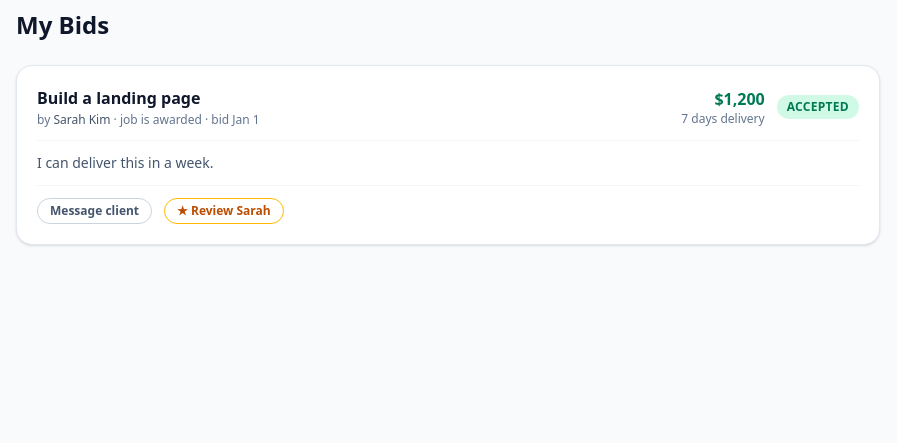
it: MyBids › updates the card after a review is saved, without refetching
The image size is (897, 443).
Click the button "★ Review Sarah".
click(224, 211)  # box [164,198,284,224]
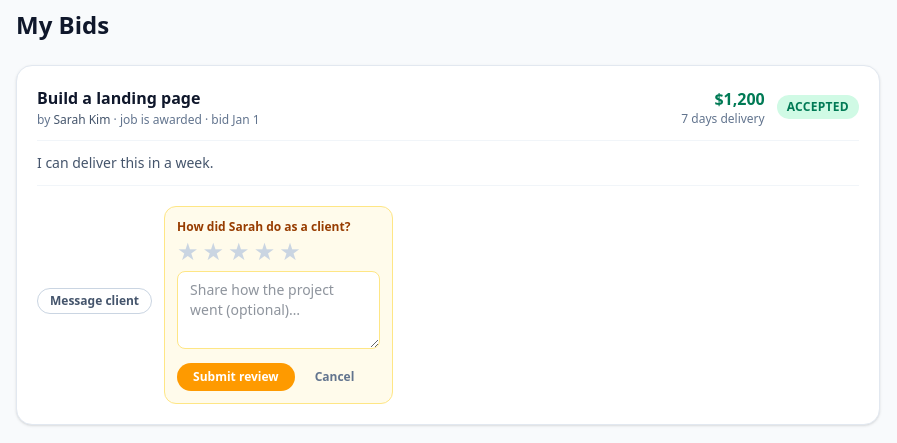
Click the radio button named "5 stars".
click(290, 251)  # box [279,239,301,263]
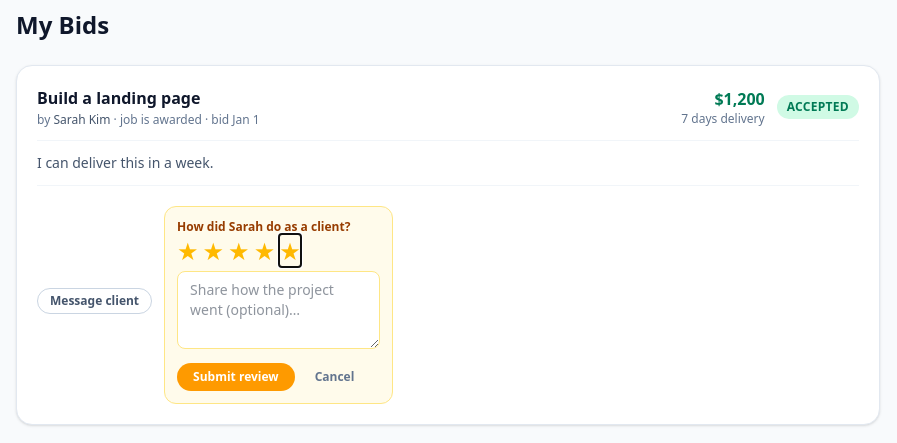
Click the button "Submit review".
click(236, 377)  # box [177,363,295,391]
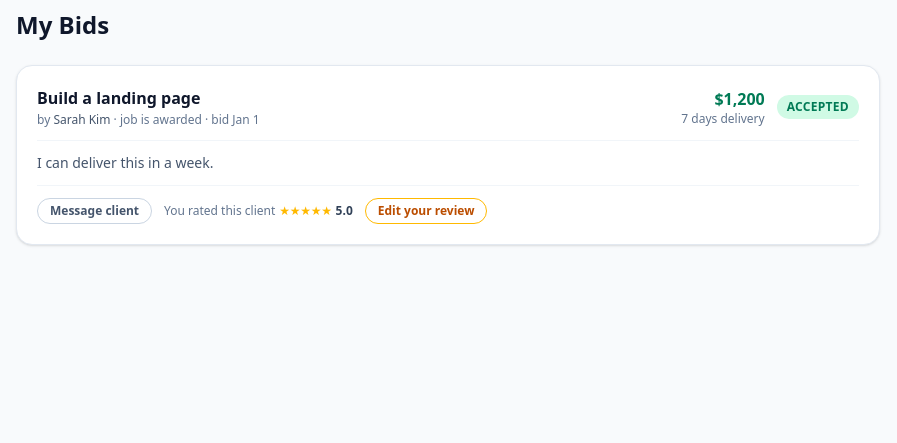
Expected: the text "You rated this client ★★★★★ 5.0" is shown, [164,203,353,219]
Expected: the button "Edit your review" is shown, [365,198,488,224]
